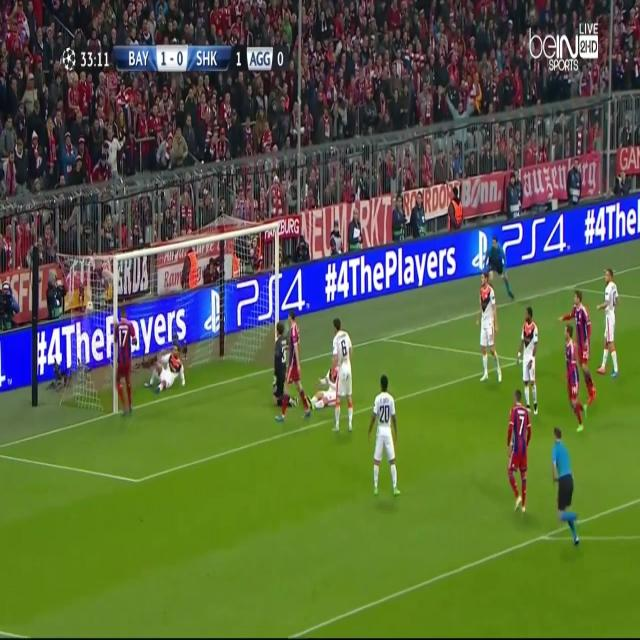Ball: (85, 299, 96, 317)
Goalkeeper: (272, 323, 297, 404)
Player: (558, 290, 600, 407), (366, 373, 404, 500), (274, 311, 312, 426), (473, 271, 505, 388), (506, 388, 533, 518), (330, 316, 357, 436), (516, 306, 542, 419), (563, 324, 589, 436), (598, 269, 622, 380), (114, 312, 138, 418), (142, 343, 188, 398), (308, 366, 339, 410)
Referee: (550, 424, 583, 553), (482, 234, 516, 301)
